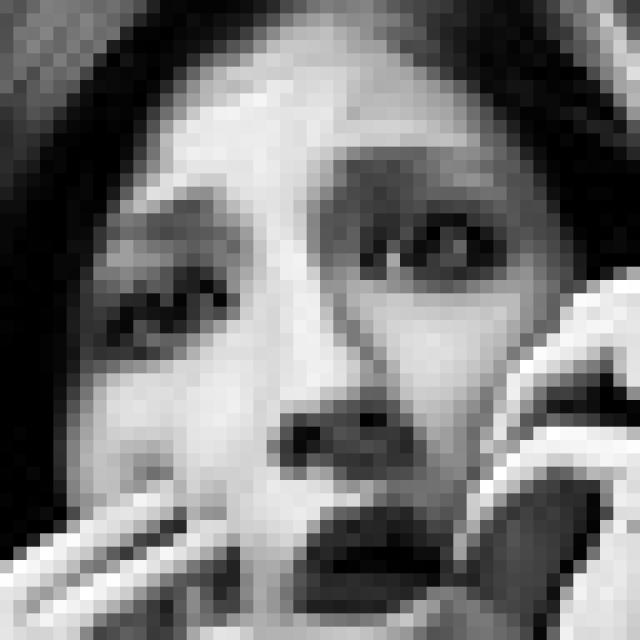fear: (107, 135, 519, 640)
